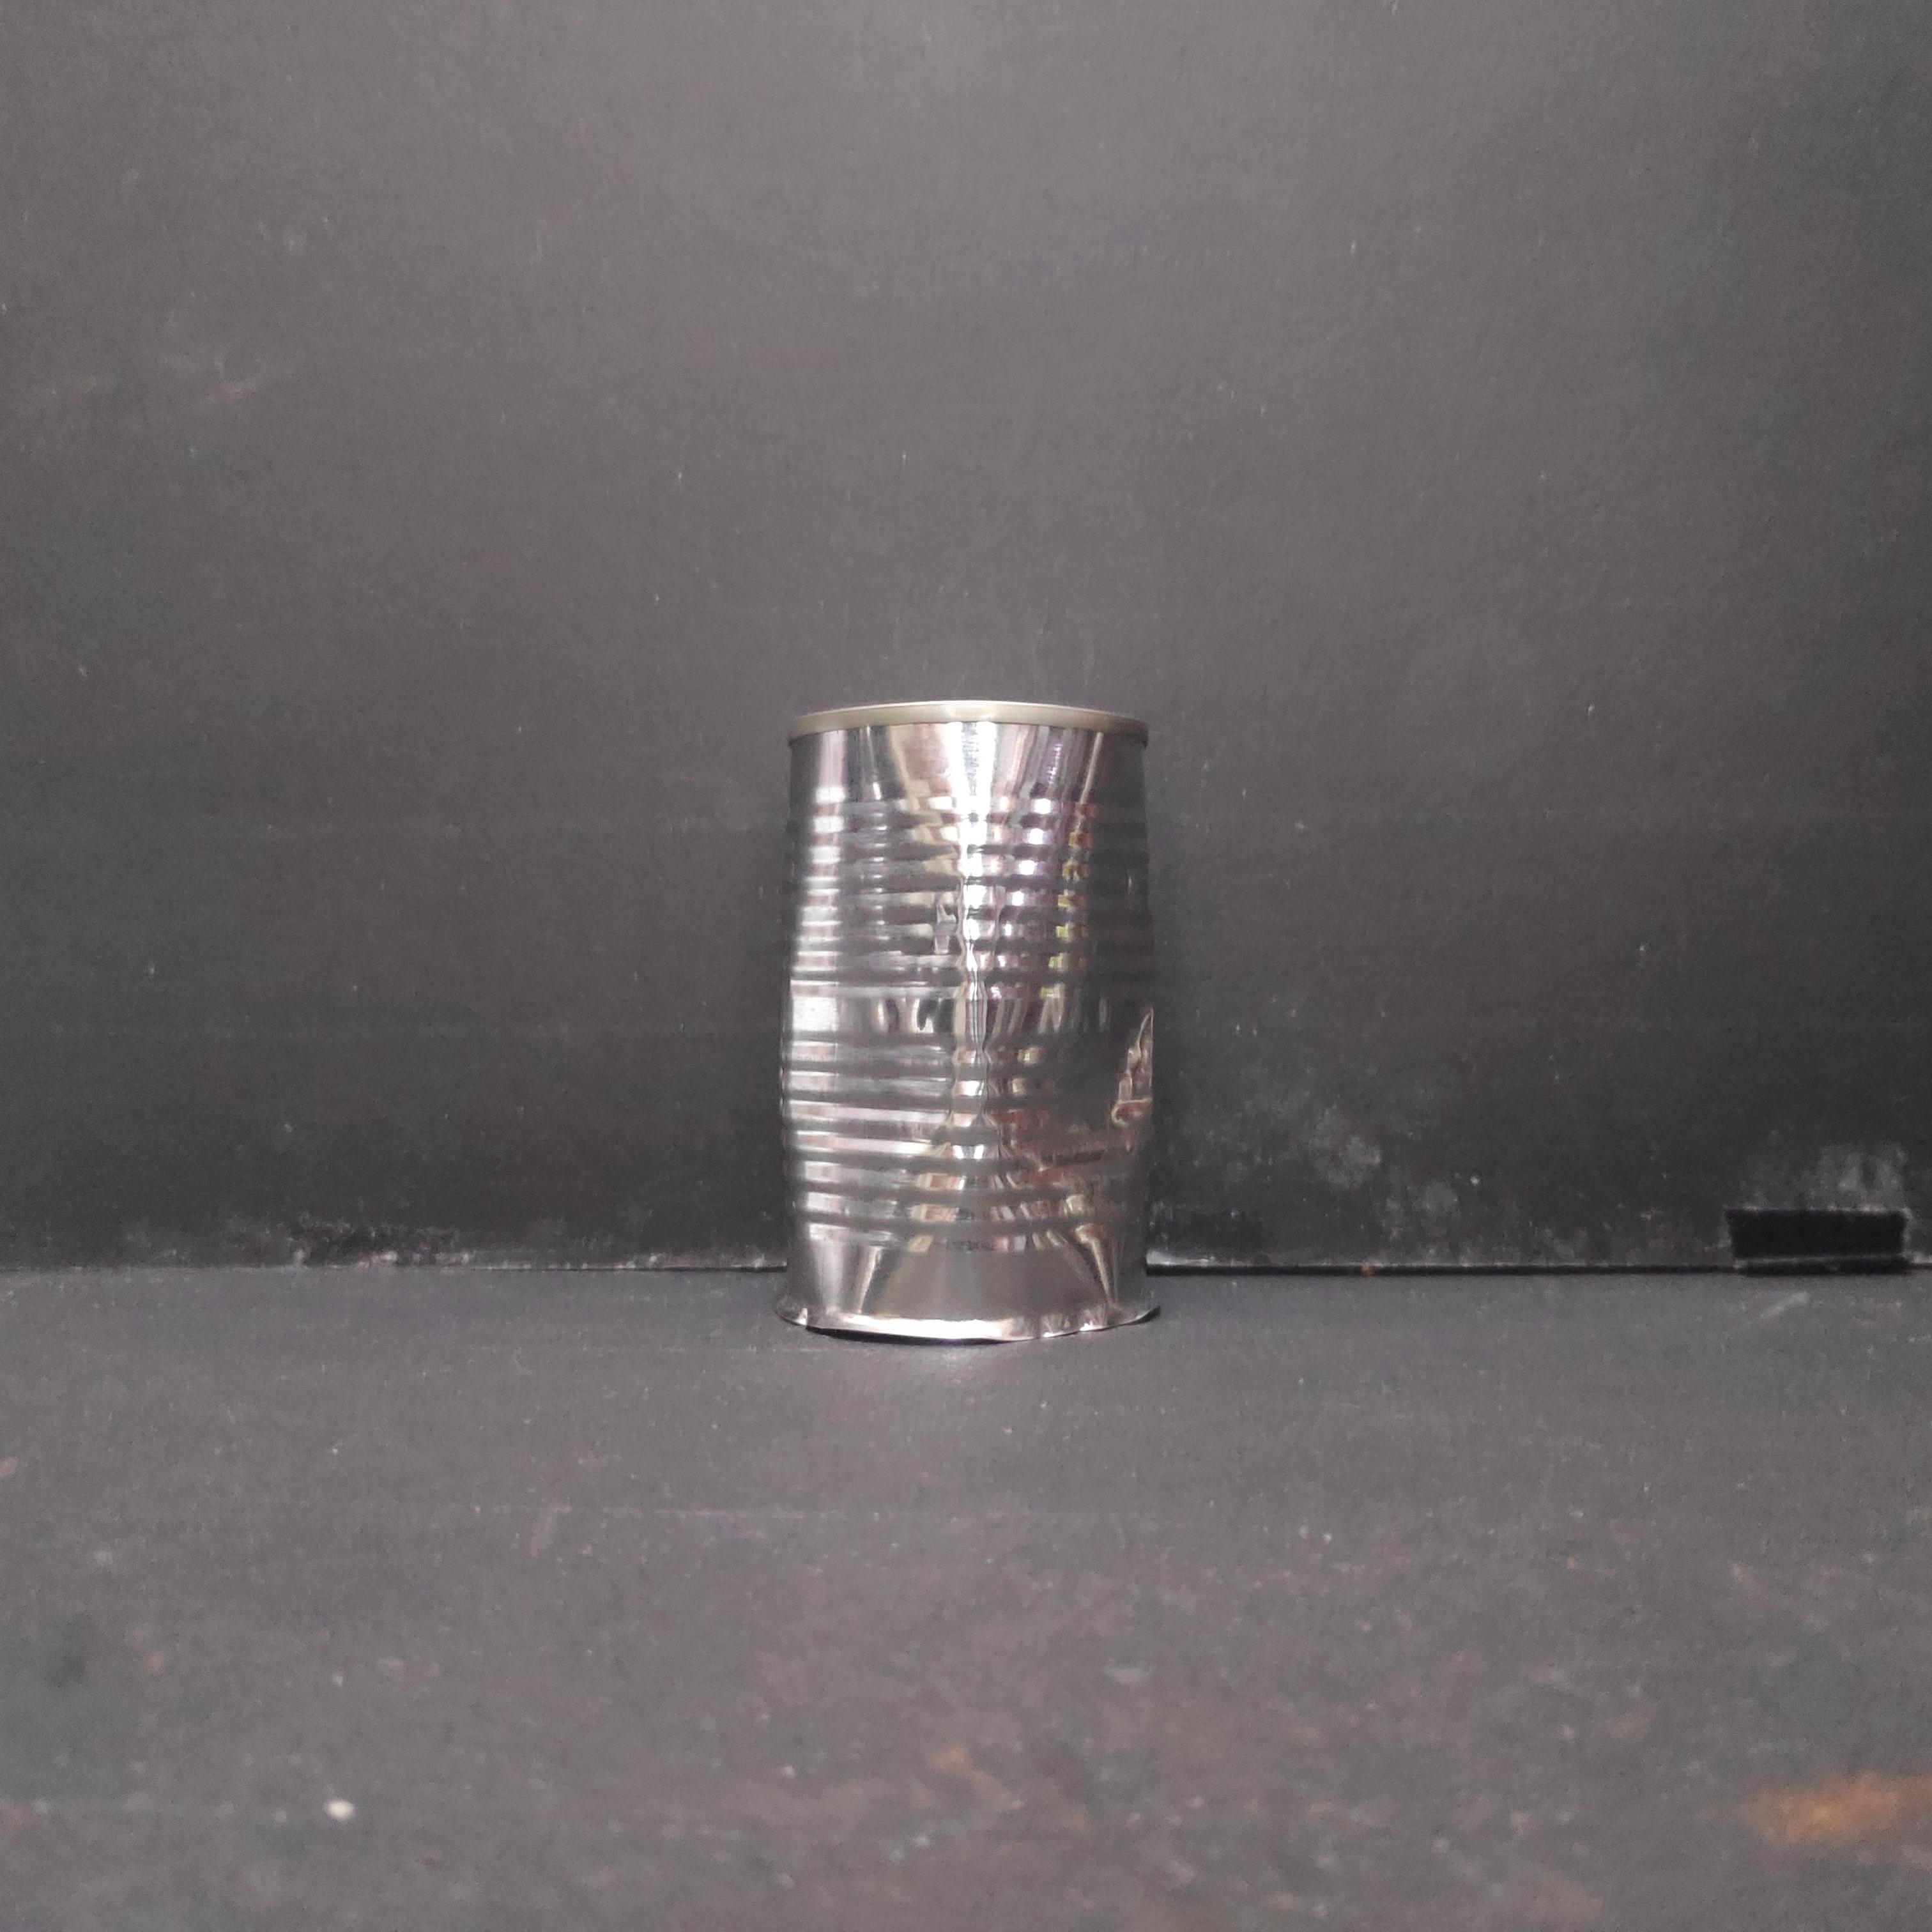Minor Defect: (759, 690, 1185, 1352)
